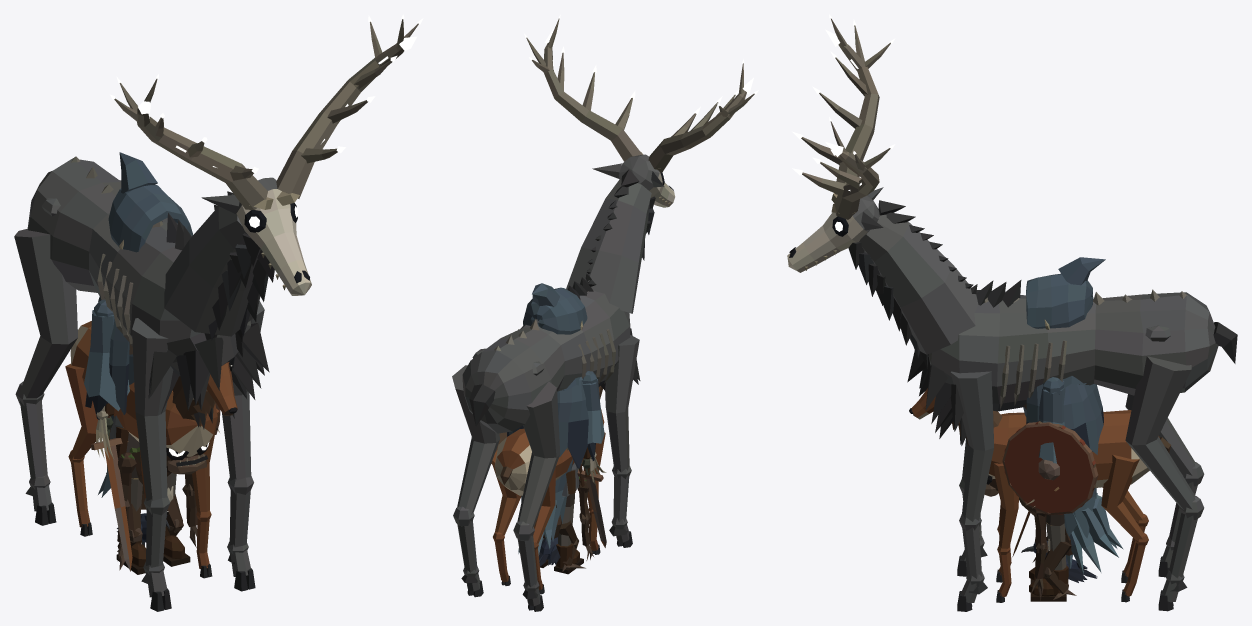
File: enemies.glb
3 renders of one model, left to right at view 1: azimuth 30°, elevation 25°; view 2: azimuth 150°, elevation 25°; view 3: azimuth 270°, elevation 25°, orthographic. The views are drawn at different scales.
Visible parts, largest first — view 1: head (×4), body (×4), leg_br (×2), leg_fr, leg_fl (×2), arm_r (×3), leg_l, leg_r, arm_l; view 2: body (×4), head (×2), leg_br (×2), leg_bl (×2), leg_fr (×2), arm_r (×3), leg_r (×2), tail; view 3: body (×3), head (×2), leg_bl (×2), arm_l (×3), leg_fl (×2), leg_br (×2), leg_l (×2).
Boxes of the visible parts, bbox=[...] form: head (×4): bbox=[98, 14, 423, 474]; body (×4): bbox=[27, 156, 269, 497]; leg_br (×2): bbox=[14, 229, 99, 536]; leg_fr: bbox=[132, 318, 173, 611]; leg_fl (×2): bbox=[192, 301, 264, 591]; arm_r (×3): bbox=[84, 299, 136, 570]; leg_l: bbox=[163, 473, 190, 566]; leg_r: bbox=[116, 466, 146, 574]; arm_l: bbox=[182, 474, 197, 547]; body (×4): bbox=[462, 273, 640, 555]; head (×2): bbox=[523, 14, 758, 390]; leg_br (×2): bbox=[513, 381, 560, 611]; leg_bl (×2): bbox=[452, 365, 521, 597]; leg_fr (×2): bbox=[583, 335, 639, 554]; arm_r (×3): bbox=[577, 371, 606, 560]; leg_r (×2): bbox=[554, 493, 585, 574]; tail: bbox=[469, 384, 495, 426]; body (×3): bbox=[907, 280, 1218, 574]; head (×2): bbox=[787, 14, 1105, 387]; leg_bl (×2): bbox=[1101, 356, 1204, 611]; arm_l (×3): bbox=[1002, 377, 1098, 600]; leg_fl (×2): bbox=[950, 371, 1018, 611]; leg_br (×2): bbox=[1102, 394, 1204, 583]; leg_l (×2): bbox=[1029, 514, 1076, 601].
Bounding box in the file's own units: 1.87 × 3.49 × 2.71.
